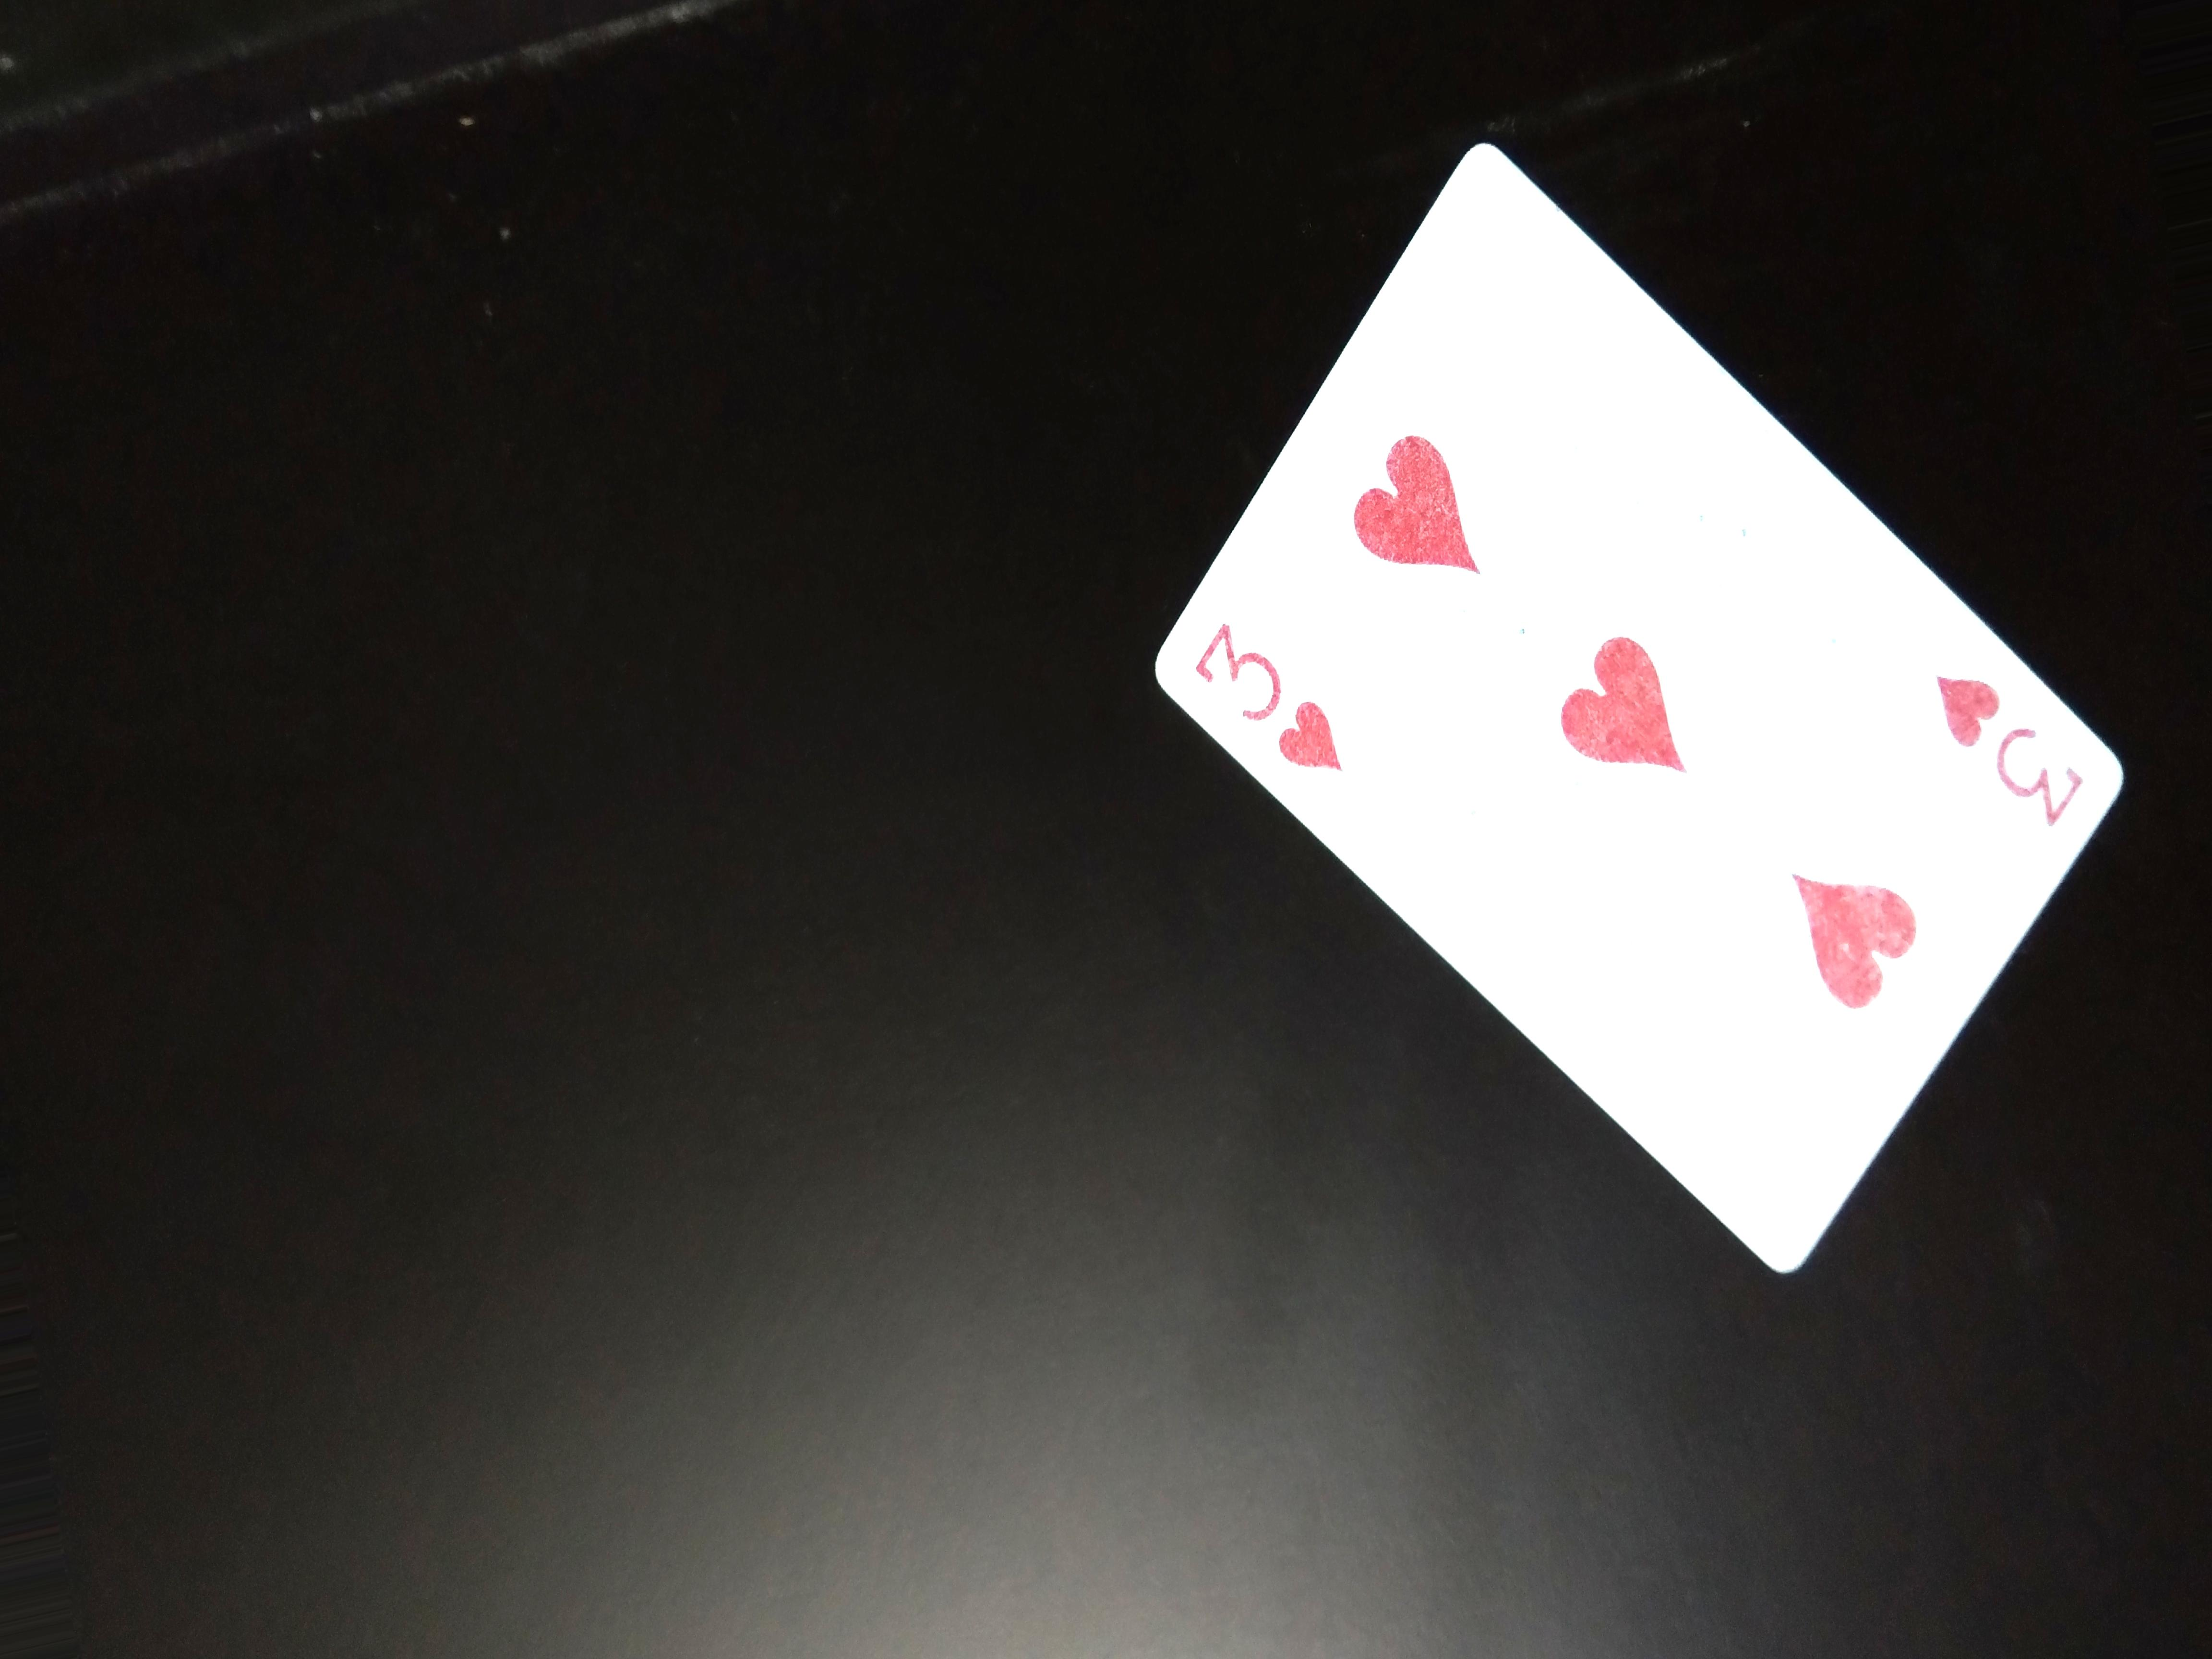3H: (1928, 660, 2102, 831)
